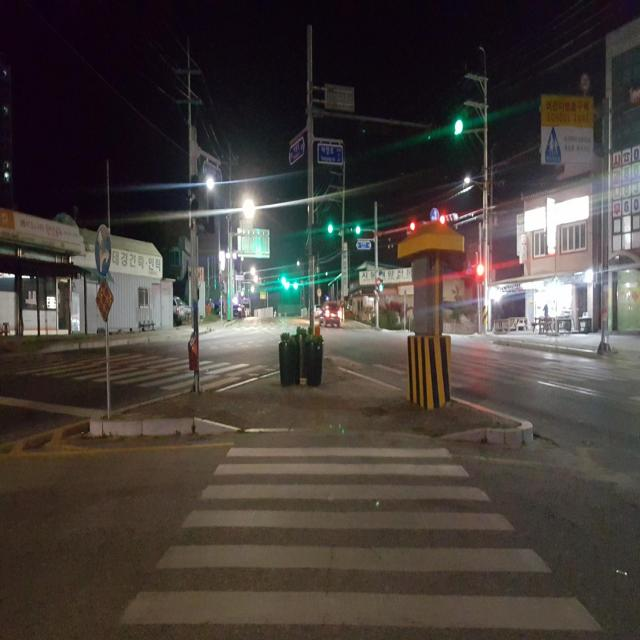횡단보도: (118, 442, 606, 636), (5, 349, 277, 402), (364, 347, 640, 390)
